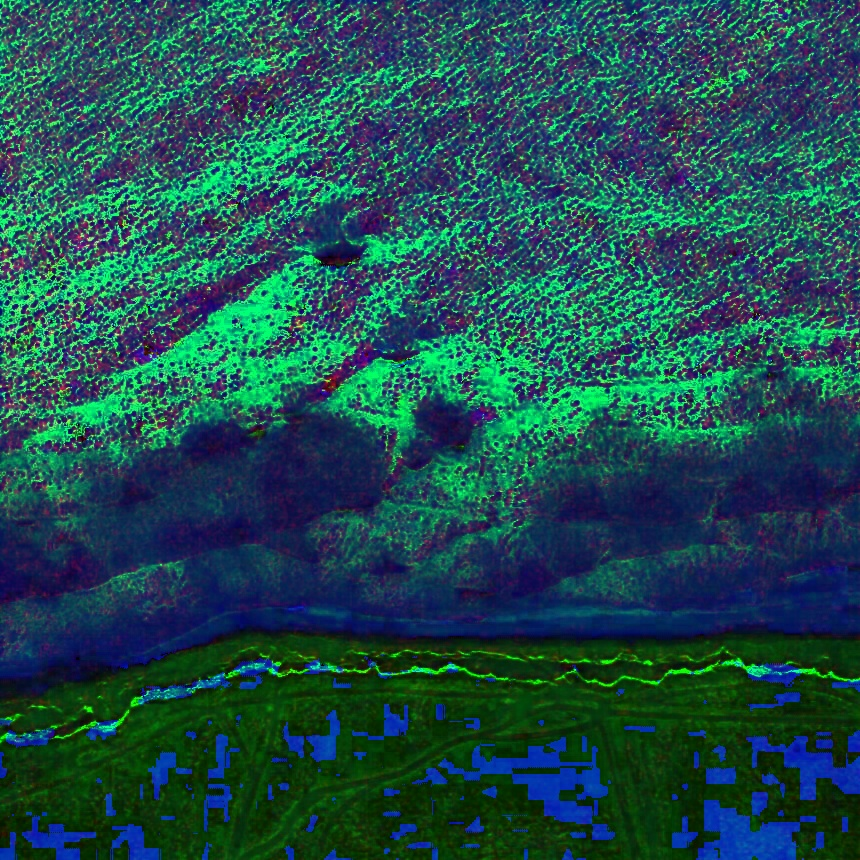rip_current: (293, 289, 612, 585)
